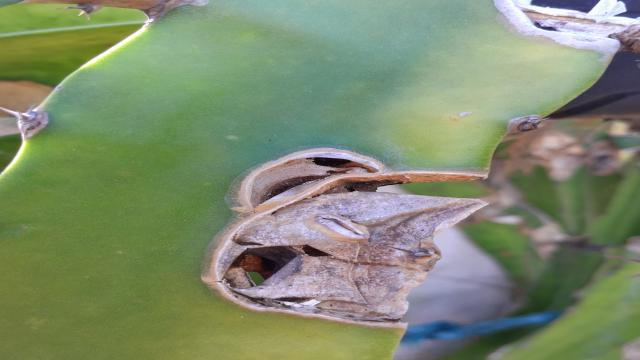stemcanker: (433, 94, 485, 132)
